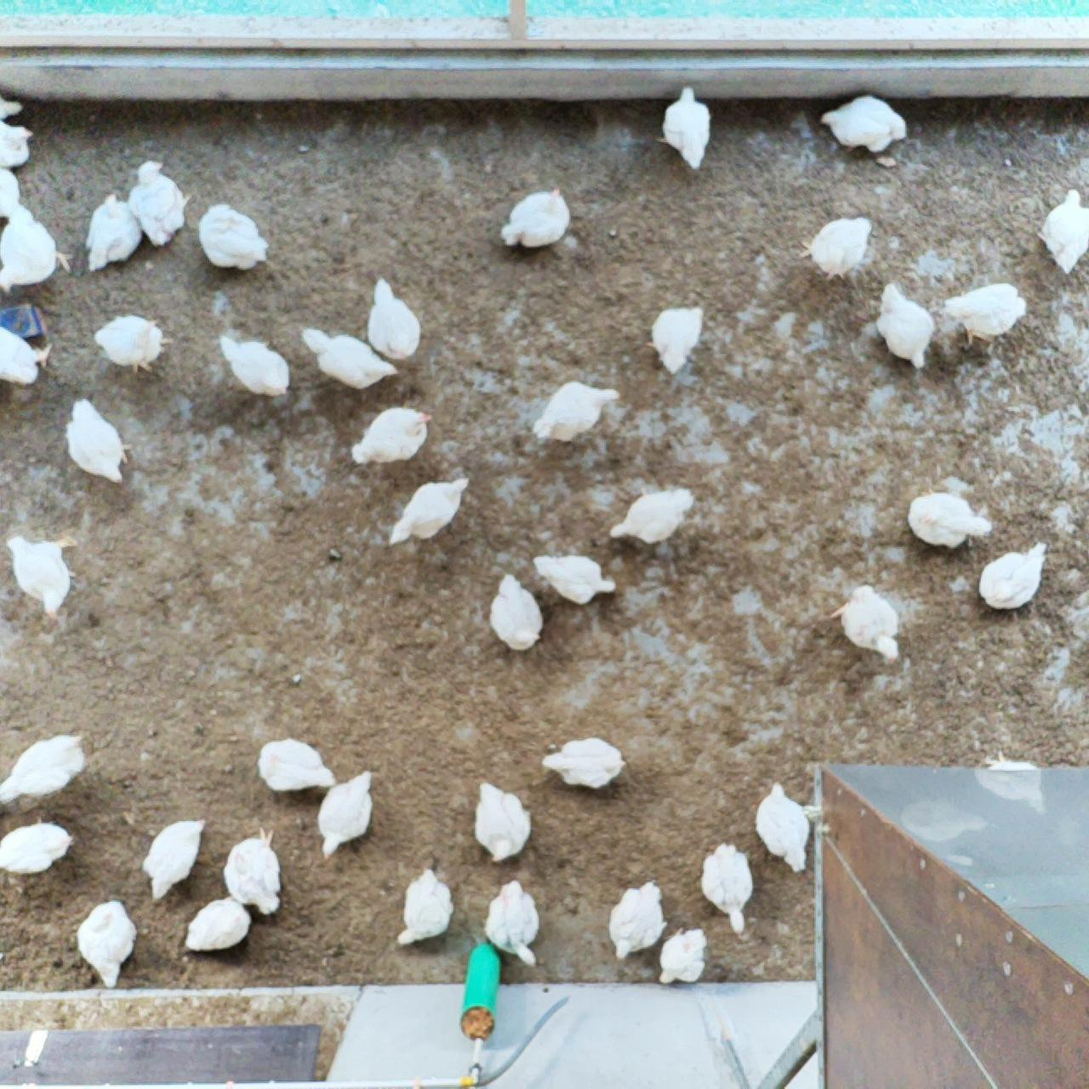chicken: (0, 532, 89, 620), (382, 475, 475, 553), (296, 322, 403, 389), (0, 730, 89, 804), (138, 814, 214, 900), (0, 202, 77, 286), (123, 159, 192, 248), (62, 396, 133, 481), (907, 486, 998, 552), (73, 897, 137, 989), (940, 280, 1031, 344), (794, 214, 875, 285), (754, 777, 814, 872), (347, 401, 434, 466), (224, 827, 287, 916), (533, 379, 622, 441), (874, 281, 938, 367), (471, 780, 538, 862), (977, 540, 1051, 613), (820, 92, 911, 151), (826, 583, 898, 656), (318, 771, 378, 858), (94, 311, 174, 376), (197, 197, 267, 271), (211, 332, 289, 398), (655, 83, 714, 170), (608, 486, 695, 545), (642, 302, 709, 378), (609, 879, 671, 961), (699, 843, 756, 930), (81, 192, 140, 276), (485, 878, 541, 966), (365, 277, 422, 363), (530, 551, 619, 606), (1034, 183, 1089, 271), (395, 867, 455, 947), (543, 735, 627, 789), (500, 188, 568, 251), (180, 894, 251, 954), (491, 572, 544, 649), (256, 737, 333, 790), (0, 824, 77, 876), (0, 321, 56, 386), (651, 927, 709, 989), (978, 744, 1041, 775), (0, 123, 37, 169), (0, 162, 27, 221), (0, 93, 28, 124)
